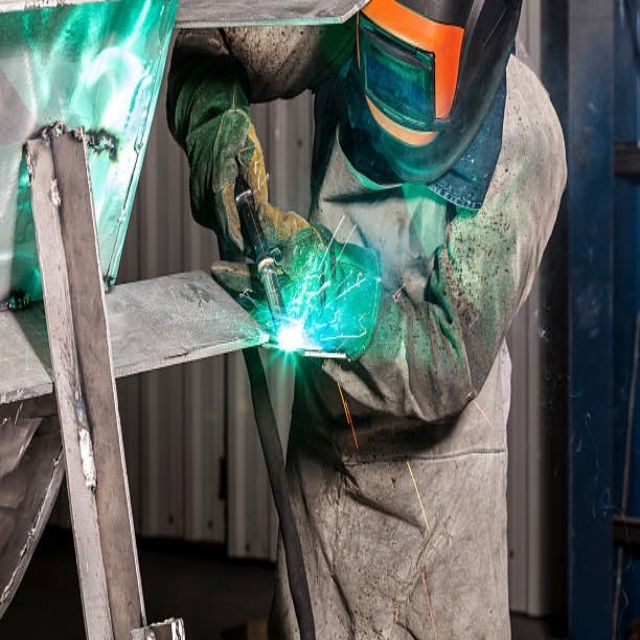Guantes: (166, 55, 279, 263), (222, 225, 382, 362)
